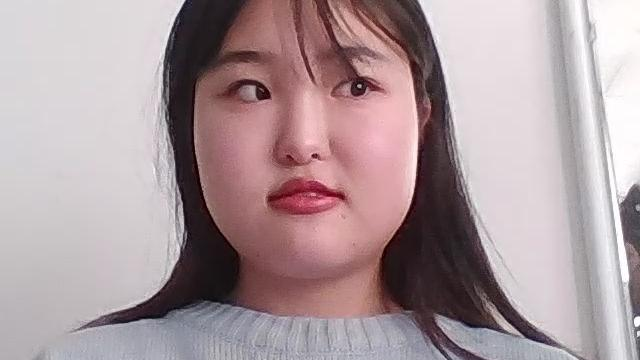eye: (257, 83, 275, 101), (351, 80, 369, 97)
iris: (331, 78, 372, 99), (233, 82, 272, 103)
